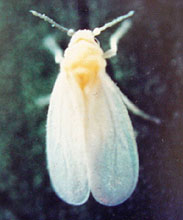whitefly: (28, 10, 153, 207)
